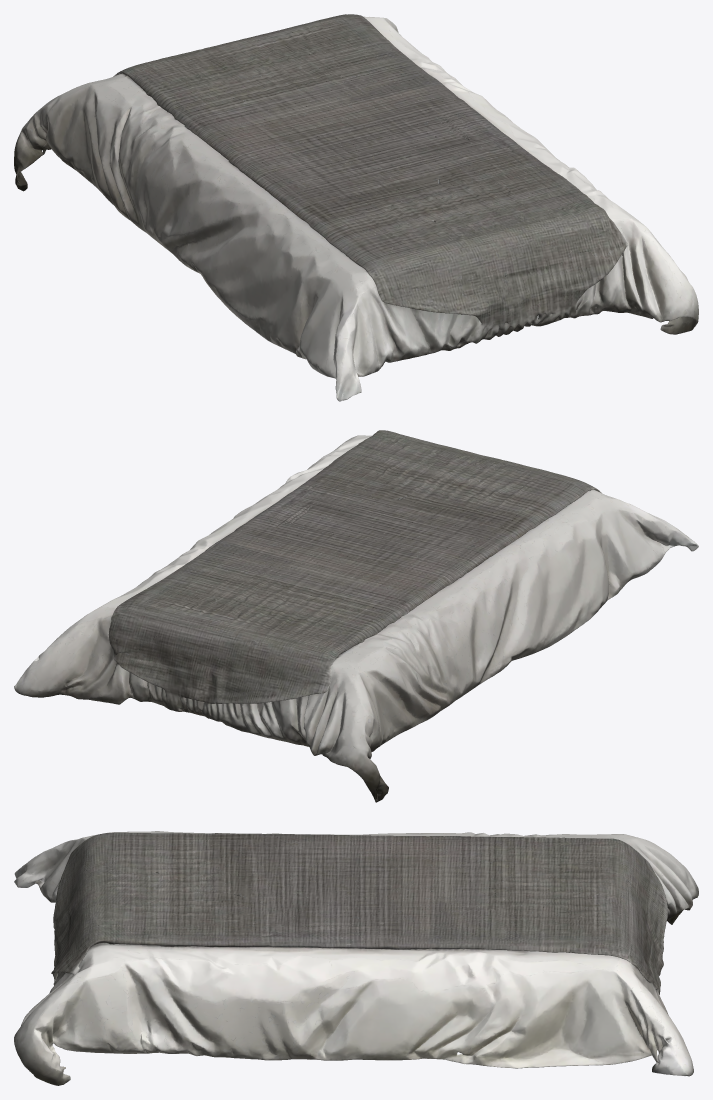
File: gen_4701544bd555.glb
3 views of the same model, one above another, from view 1: azimuth 30°, elevation 25°; view 2: azimuth 150°, elevation 25°; view 3: azimuth 270°, elevation 25° (orthographic). The views are drawn at different scales.
Visible parts, largest first — view 1: world; view 2: world; view 3: world.
Part boxes in pixels (x1=…): world: x1=14, y1=14, x2=698, y2=401; world: x1=14, y1=430, x2=698, y2=802; world: x1=14, y1=831, x2=698, y2=1085.
Bounding box in the file's own units: 0.6801 × 0.2006 × 0.999.
1 material, 1 textured.
